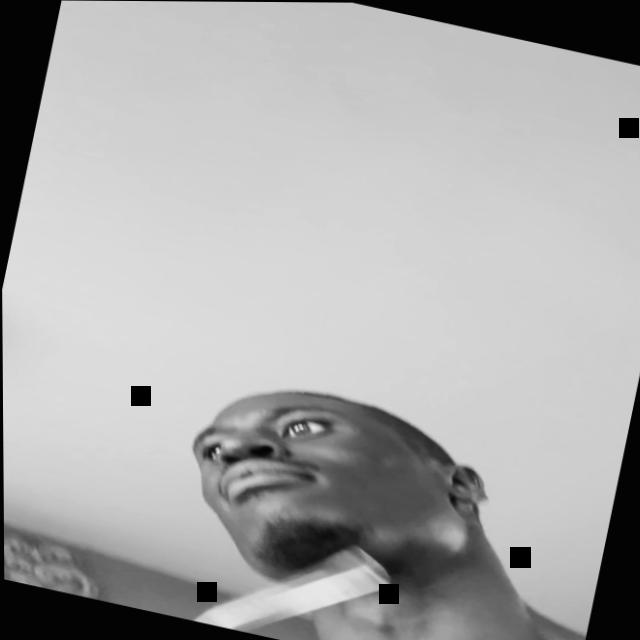NO-Mask: (161, 365, 479, 609)
